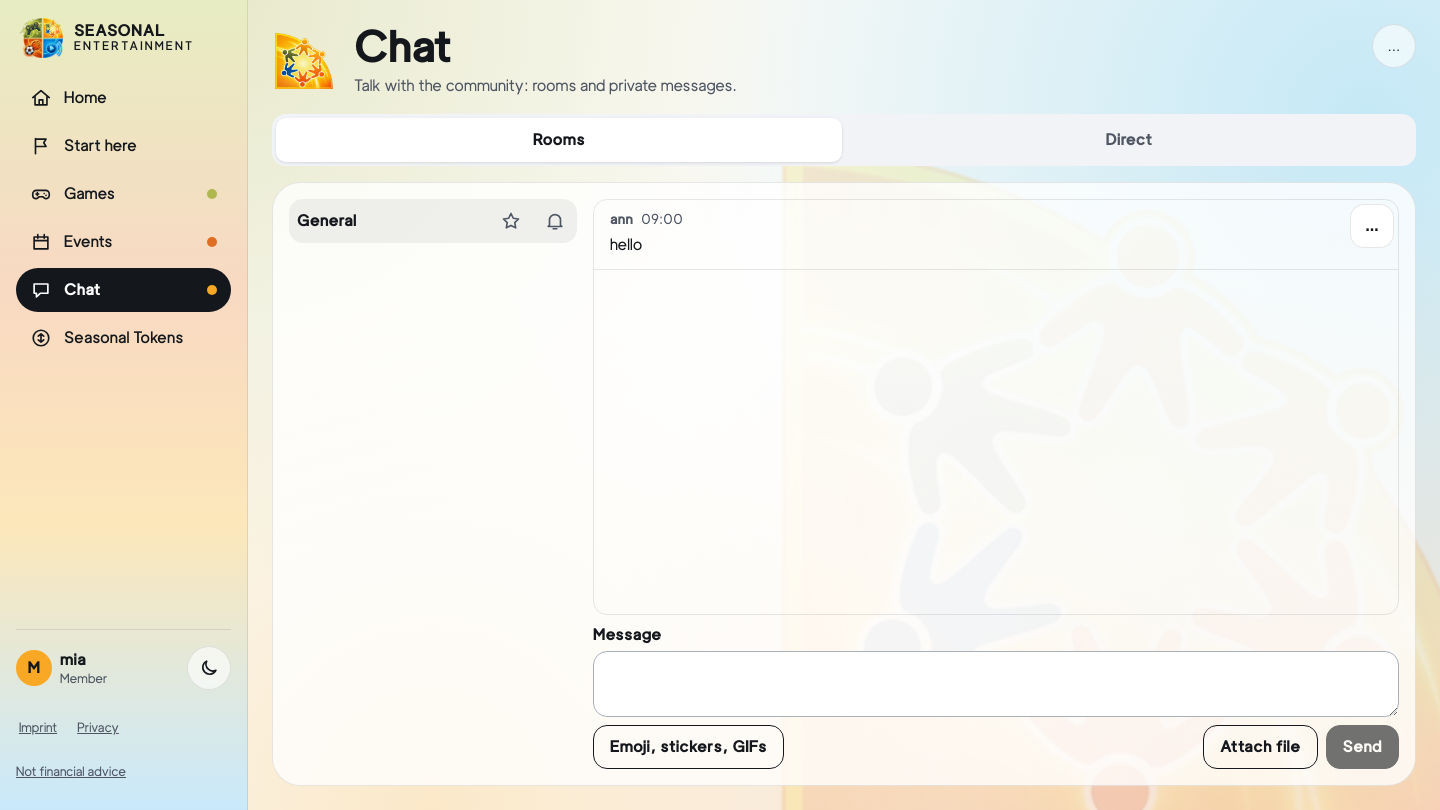
Scenario: starring a partner moves them first and stays; the name menu agrees
Click the tab "Direct" at (1129, 140), box [846,118,1412,162]
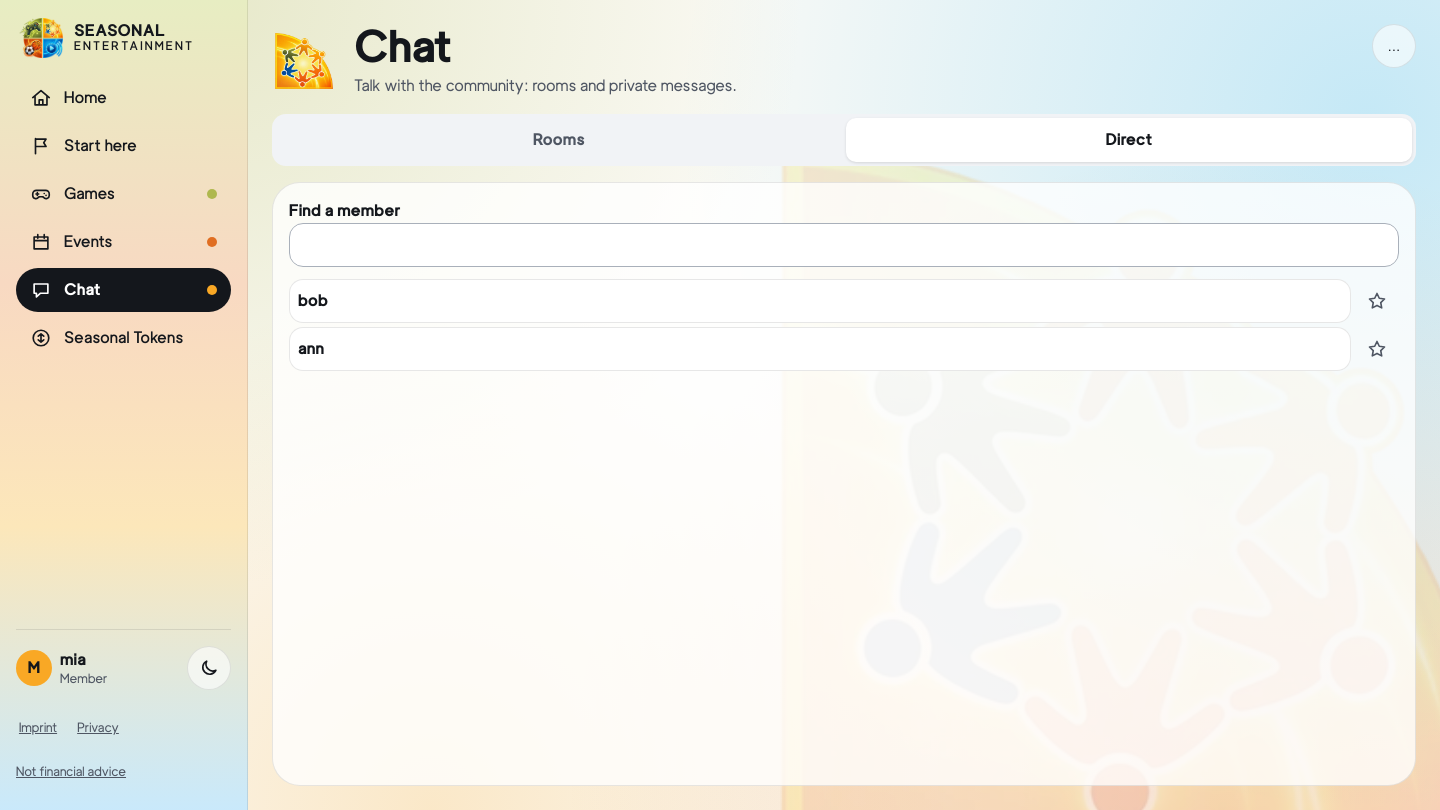
Expected: the list named "Private conversations" is shown, [289,279,1399,371]
Click the button named "Favourite: ann" at (1377, 349), box [1355,327,1399,371]
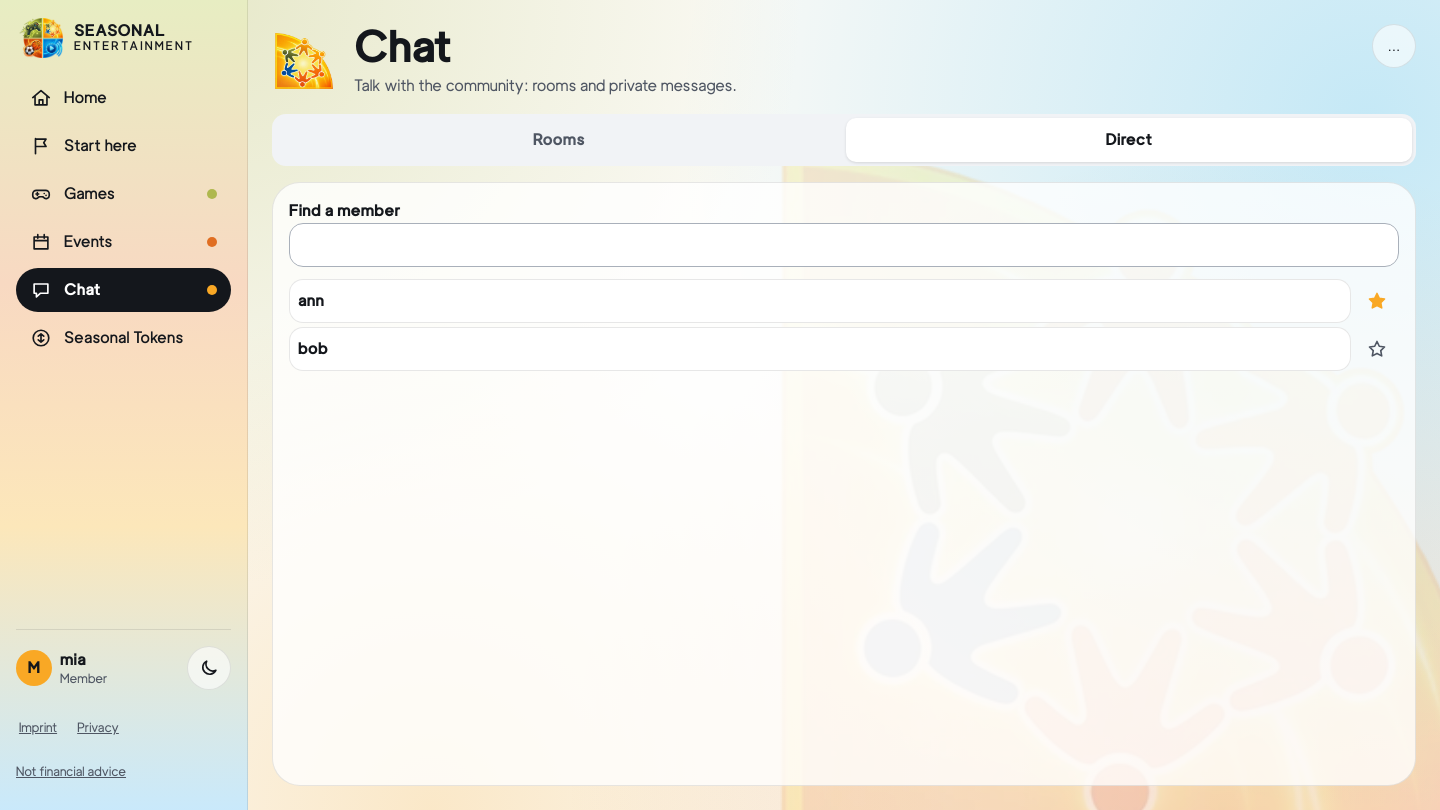
Expected: the button named "Favourite: ann" is pressed, [1355,279,1399,323]
Click the tab "Rooms" at (559, 140), box [276,118,842,162]
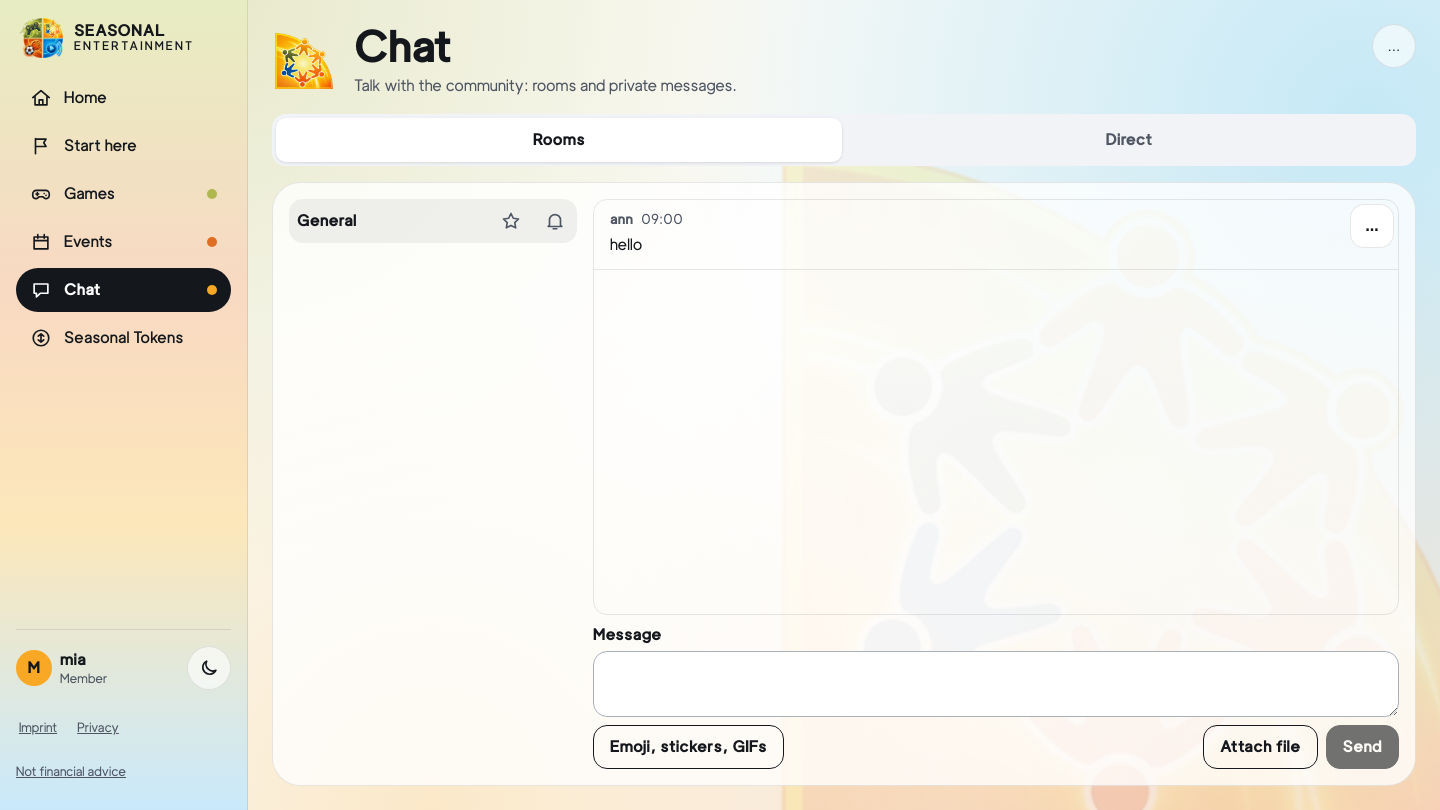
Click the button "ann" at (622, 218), box [610,208,633,229]
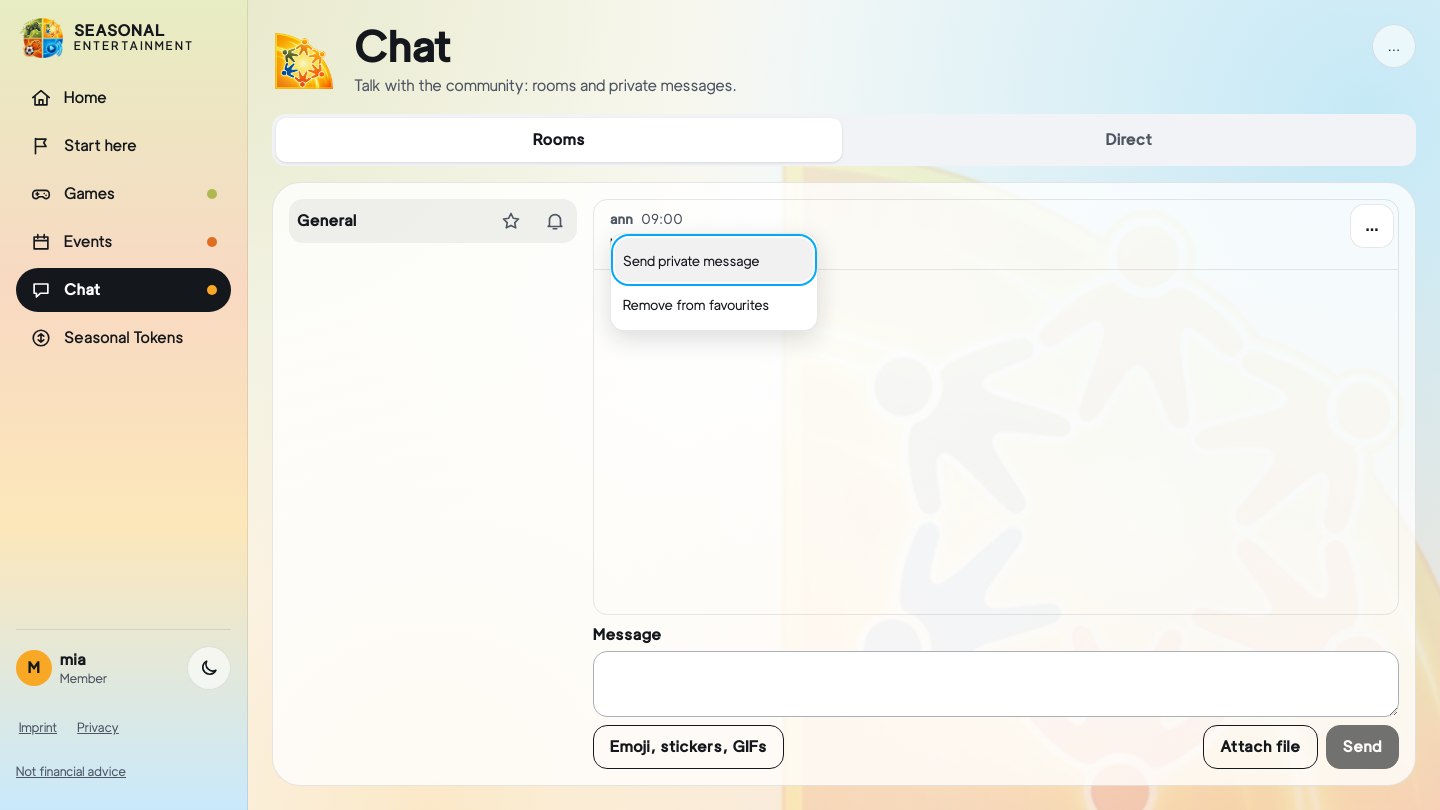
Expected: the menu item "Remove from favourites" is shown, [615,282,813,326]
